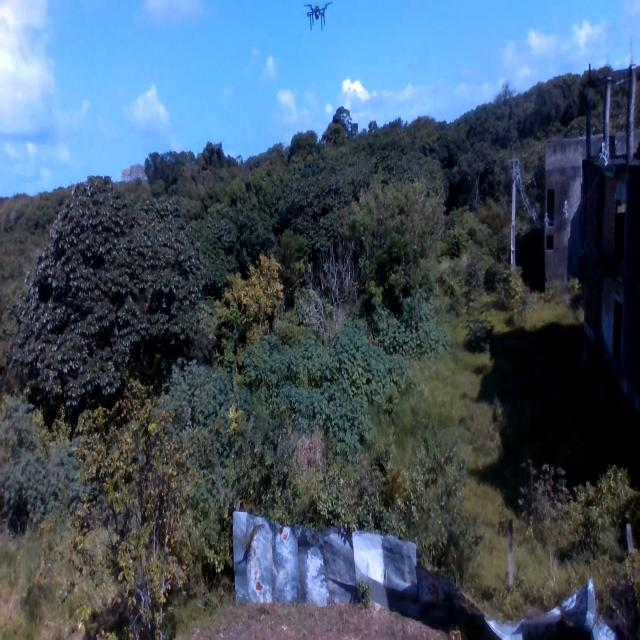-uav-: (302, 0, 336, 37)
